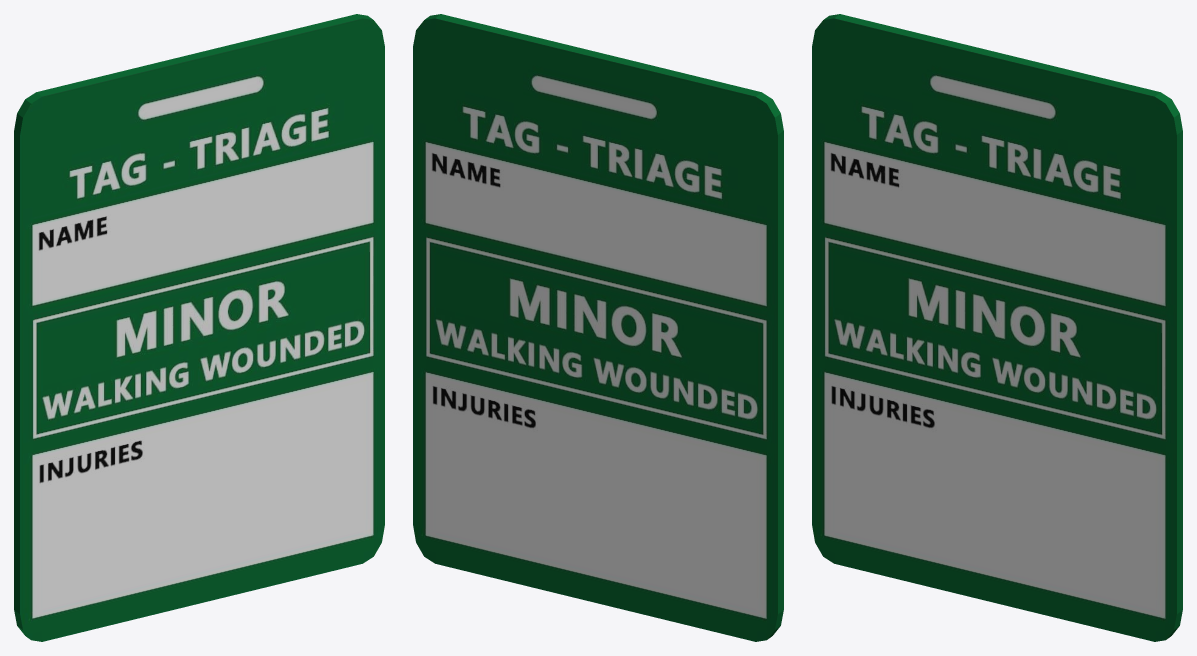
File: Green.fbx
3 renders of one model, left to right at view 1: azimuth 30°, elevation 25°; view 2: azimuth 150°, elevation 25°; view 3: azimuth 330°, elevation 25°, orthographic.
Visible parts, largest first — view 1: Green; view 2: Green; view 3: Green.
Part boxes in pixels (x1,y1,x2,y2): Green: (14,14,384,641); Green: (413,14,783,641); Green: (812,14,1182,641).
Bounding box in the file's own units: 7.9 × 11.29 × 0.2258.
1 material, 1 textured.
